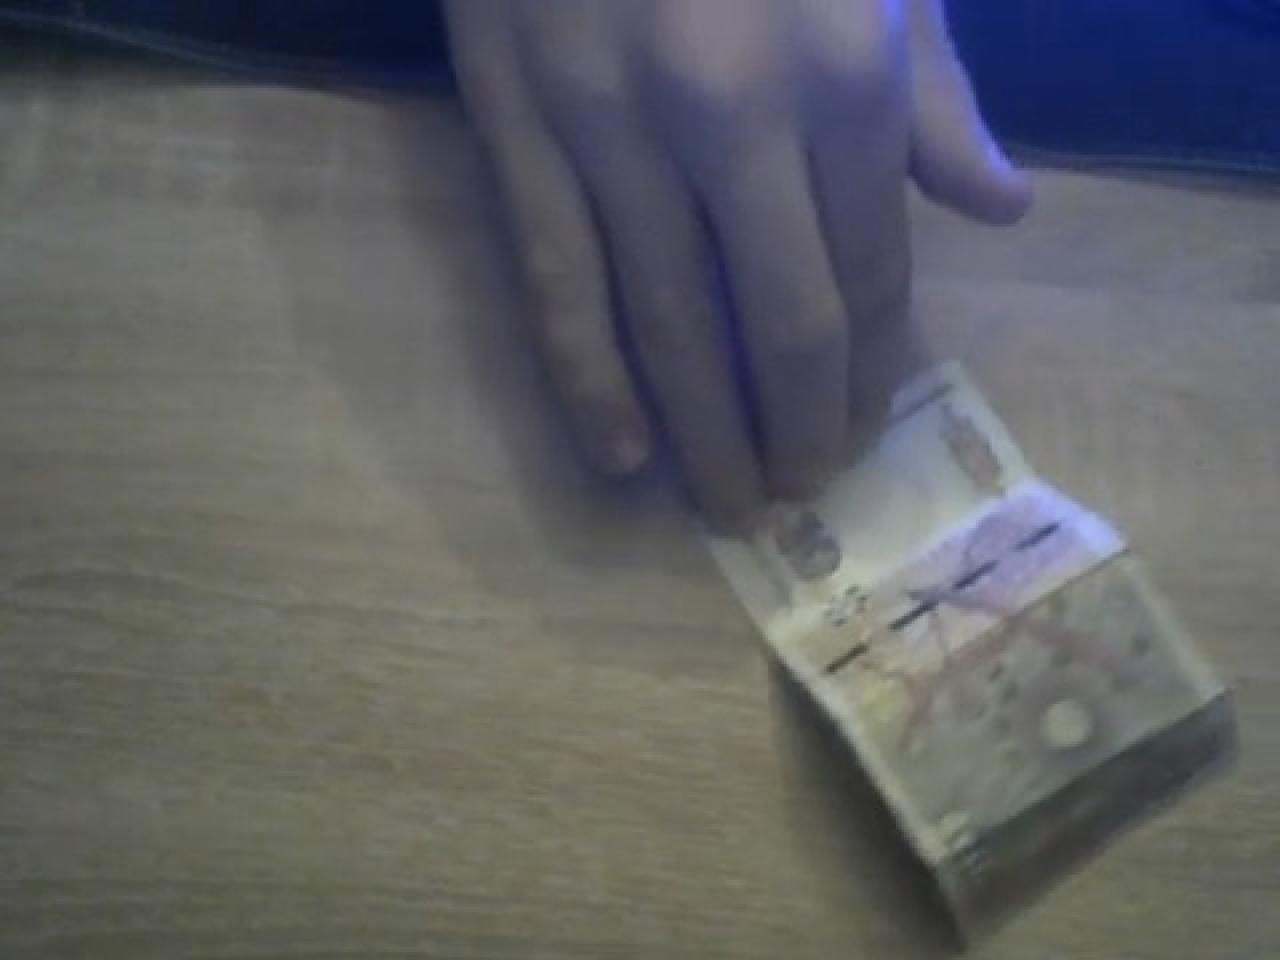10leva: (696, 363, 1238, 955)
